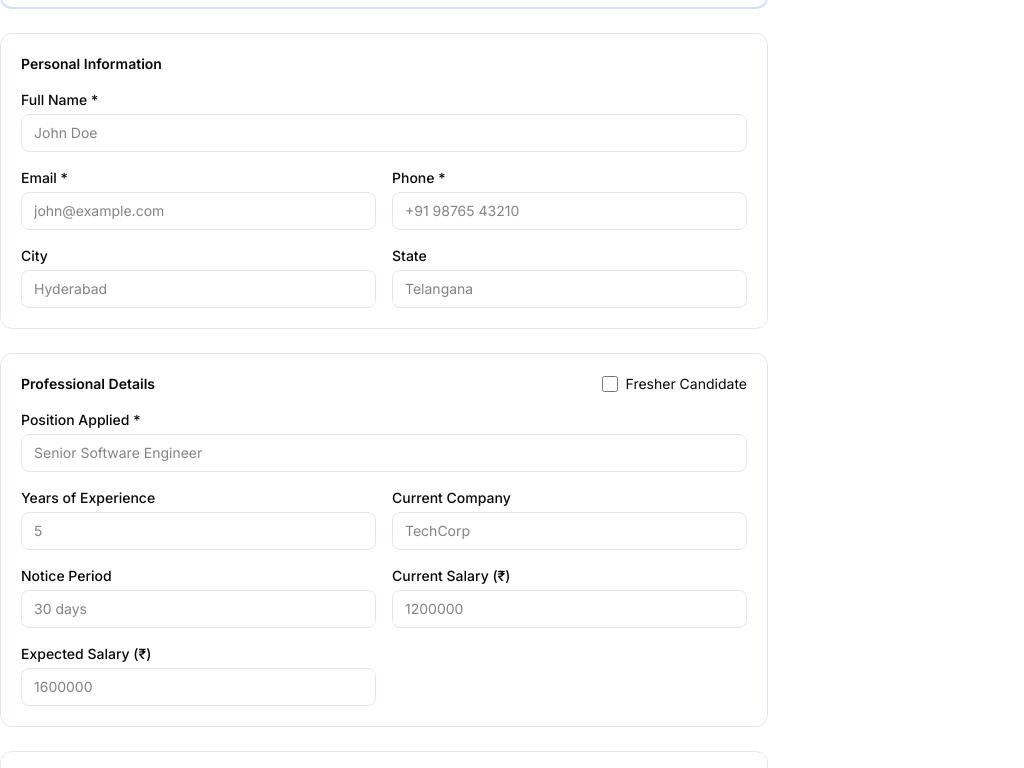
Test case: Add Candidate Page › should toggle fresher fields
(page scrolled)
Expected: the text "Years of Experience" is shown, [21,489,155,506]
Click the checkbox: (610, 384) [602,376,618,392]
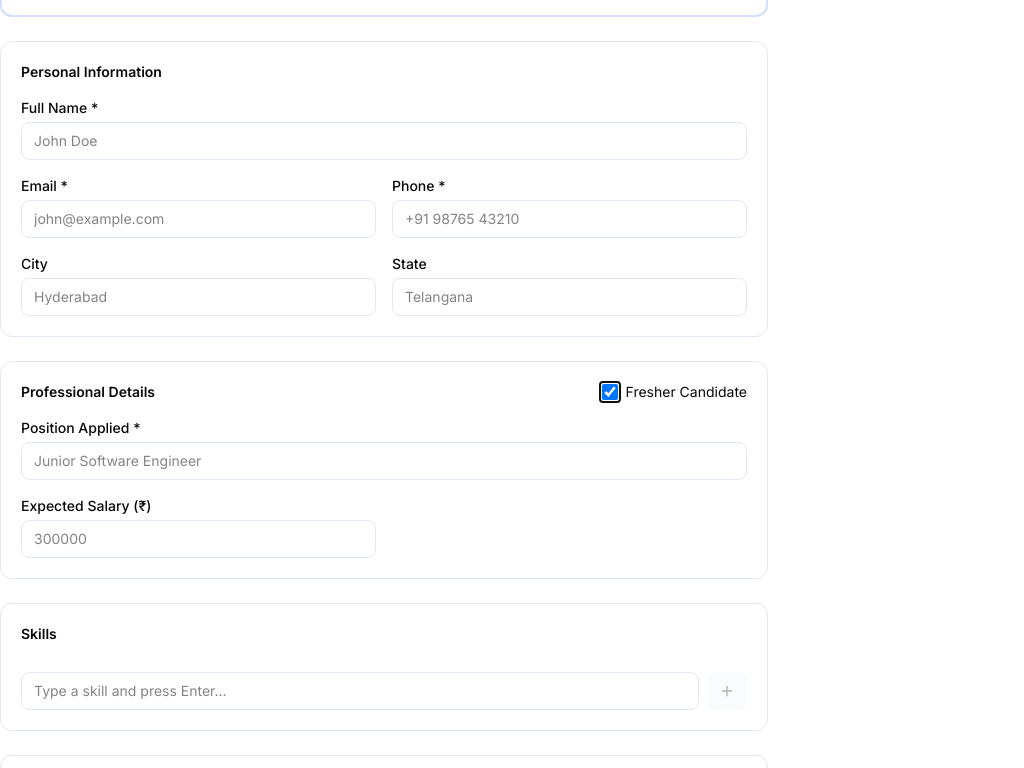
Now the text "Years of Experience" is gone
